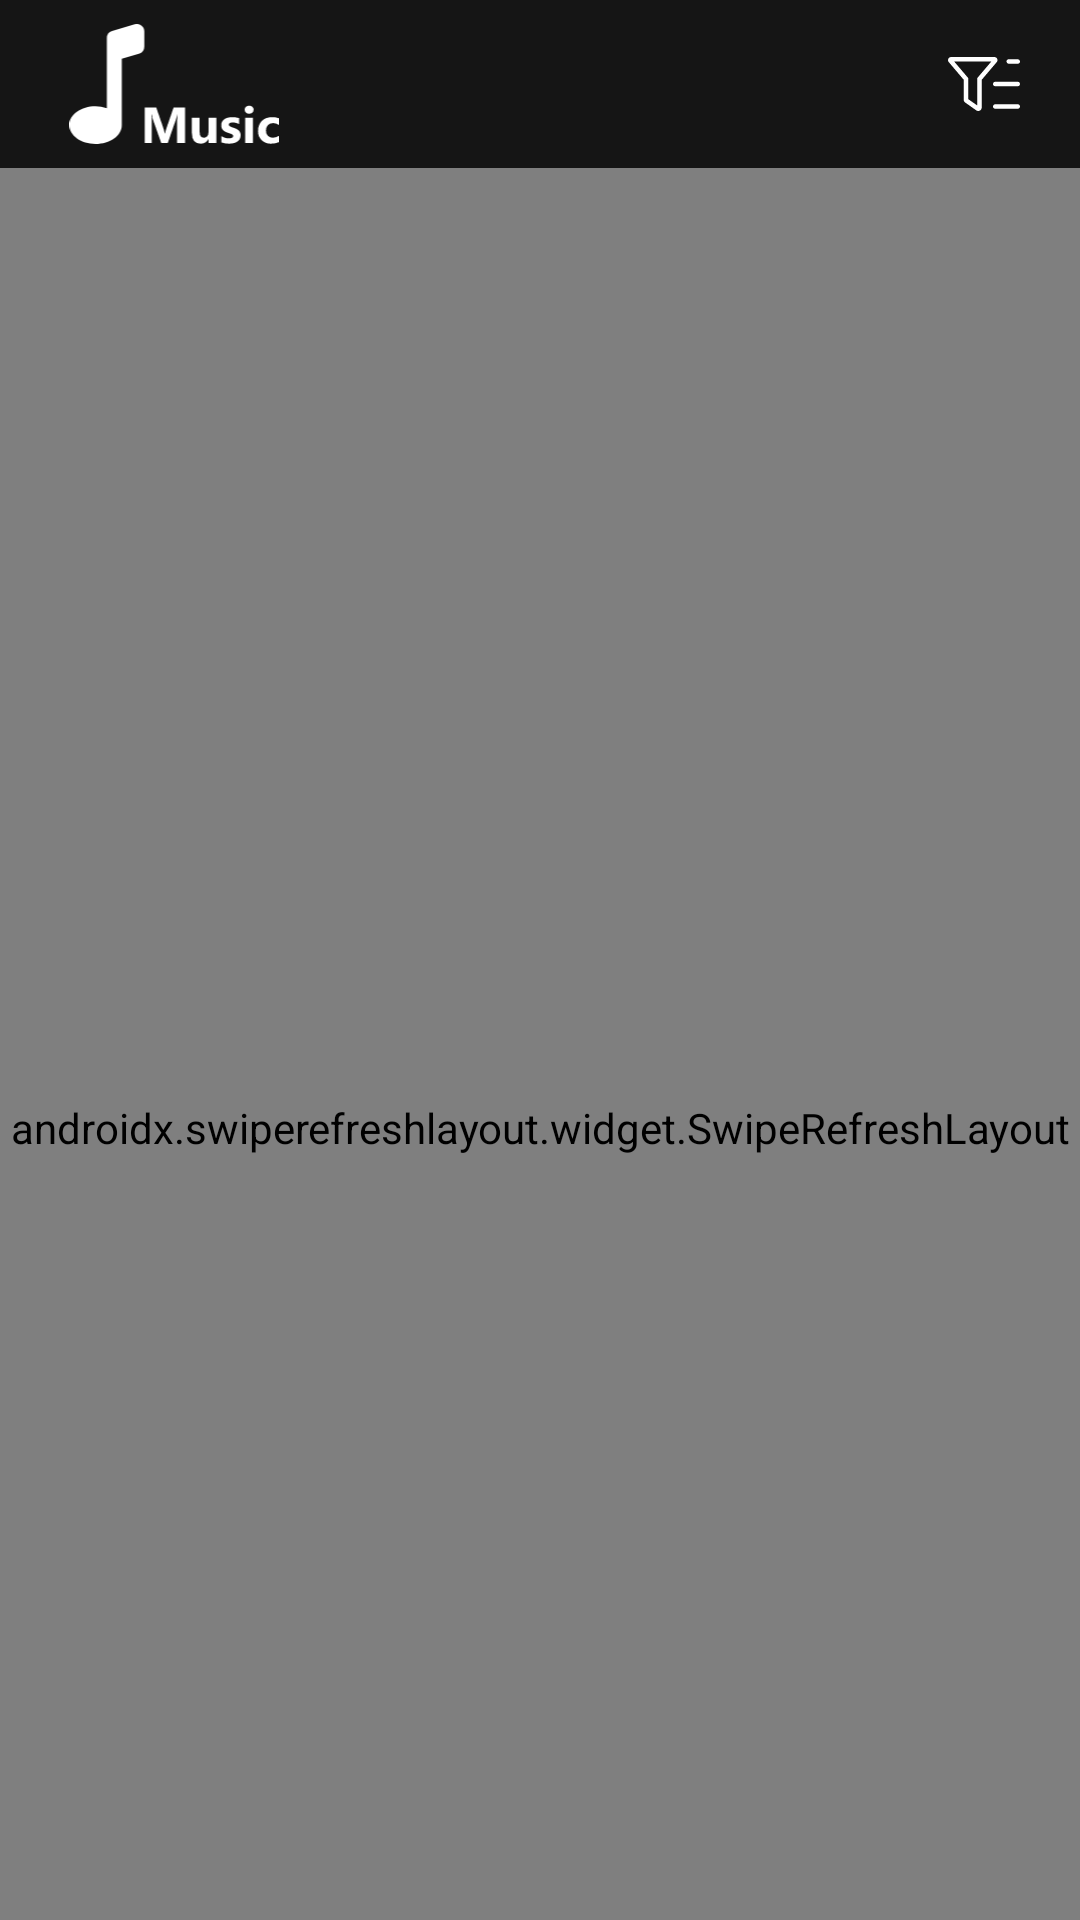

Icon click points for this 1080x1920 phone screenshot, format [x,y]:
filter list: [984,84]
